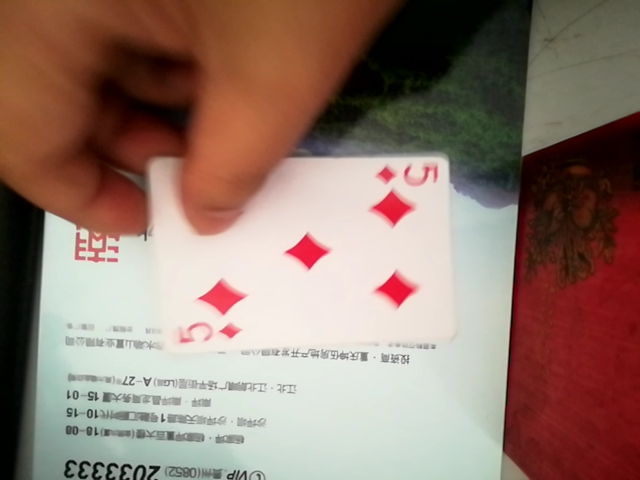fk 5: (147, 149, 460, 365)
